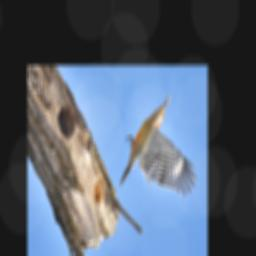Woodpecker: (119, 92, 198, 198)
